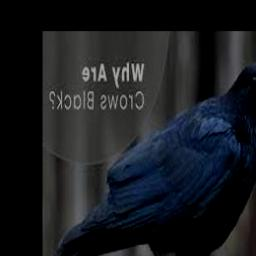Crow: (43, 63, 256, 256)
